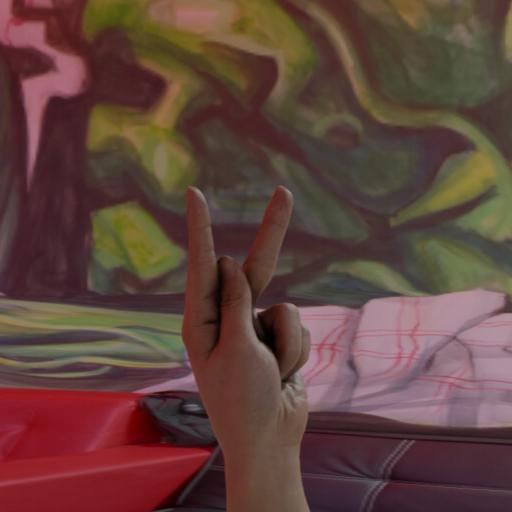K: (155, 160, 369, 426)
